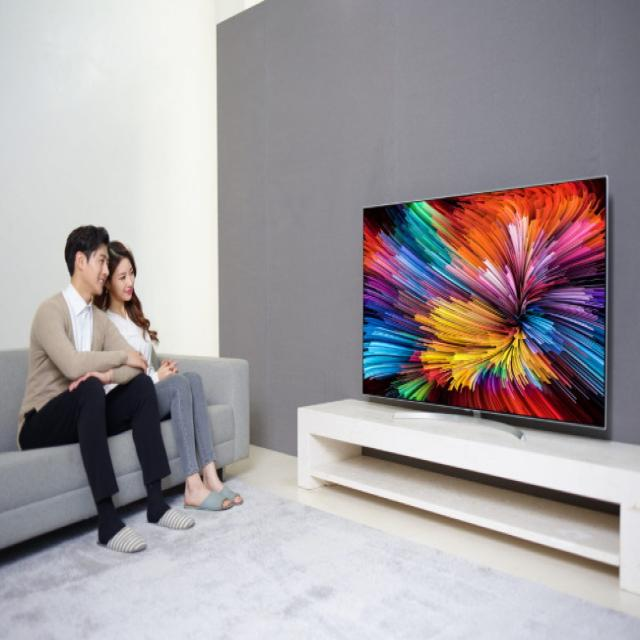tv-person: (23, 163, 614, 558)
